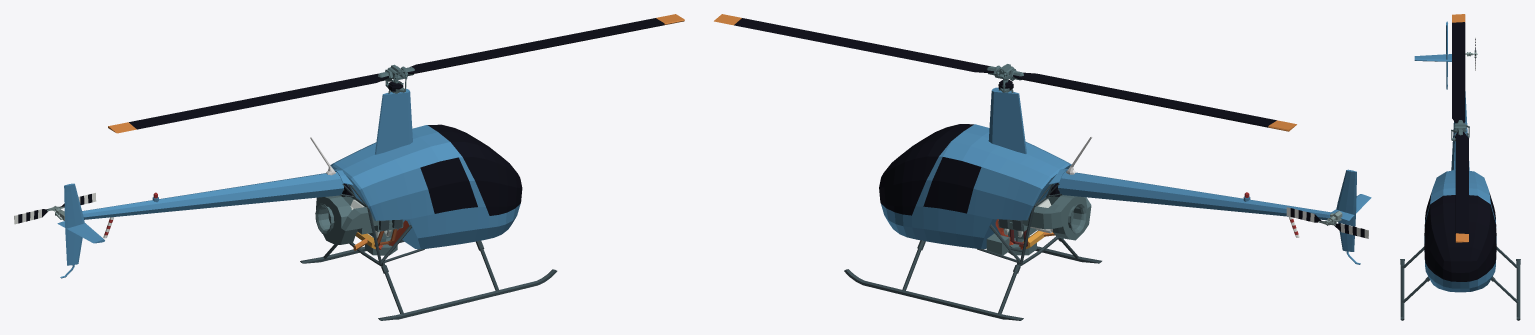
Rendered from helicopter1_model_2.glb.
3 views of the same model, side by side, from view 1: azimuth 30°, elevation 25°; view 2: azimuth 150°, elevation 25°; view 3: azimuth 270°, elevation 25° (orthographic). The views are drawn at different scales.
Visible parts, largest first — view 1: HeliMainBody.005, HeliTail.002, main_rotor_blade2.002, main_rotor_blade1.002, Cube.068, RotorMast.002, TailVerStab.002, Cylinder2.002, tail_rotor_blades.003; view 2: HeliMainBody.005, HeliTail.002, main_rotor_blade2.002, main_rotor_blade1.002, Cube.068, RotorMast.002, TailVerStab.002, Cylinder2.003, tail_rotor_blades.003; view 3: HeliMainBody.005, main_rotor_blade1.002, main_rotor_blade2.002, Cylinder2.002, Cylinder2.003, TailHorStab1.002, HeliTail.002, TailVerStab.002, Cylinder1.002, Cylinder1.003.
Part boxes in pixels (x1,y1,x2,y2): HeliMainBody.005: (330,124,522,249); HeliTail.002: (82,171,343,219); main_rotor_blade2.002: (108,73,388,133); main_rotor_blade1.002: (407,14,684,73); Cube.068: (315,195,391,244); RotorMast.002: (375,88,412,154); TailVerStab.002: (64,183,84,265); Cylinder2.002: (378,269,557,320); tail_rotor_blades.003: (14,193,96,224); HeliMainBody.005: (879,124,1073,248); HeliTail.002: (1058,171,1332,220); main_rotor_blade2.002: (1013,72,1296,131); main_rotor_blade1.002: (714,14,993,73); Cube.068: (1010,195,1091,240); RotorMast.002: (988,87,1026,153); TailVerStab.002: (1336,169,1356,251); Cylinder2.003: (844,269,1023,320); tail_rotor_blades.003: (1286,207,1368,238); HeliMainBody.005: (1424,170,1496,292); main_rotor_blade1.002: (1455,131,1468,242); main_rotor_blade2.002: (1452,14,1465,123); Cylinder2.002: (1400,259,1404,320); Cylinder2.003: (1516,259,1520,320); TailHorStab1.002: (1414,54,1451,61); HeliTail.002: (1451,91,1469,170); TailVerStab.002: (1446,21,1447,86); Cylinder1.002: (1402,276,1429,302); Cylinder1.003: (1491,276,1518,302).
Size of the model in its own units: 9.76 by 3.17 by 2.09.
Materials: 9 (8 with a texture image).
